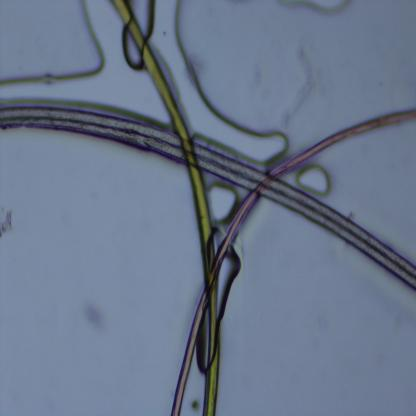Air bubble: (151, 0, 292, 162), (0, 1, 106, 93), (286, 0, 351, 21), (296, 164, 332, 199), (208, 184, 238, 222)
Background material: (80, 302, 109, 340), (0, 204, 15, 245)
Microfibre: (0, 104, 416, 288), (171, 110, 416, 414), (111, 0, 220, 415)
